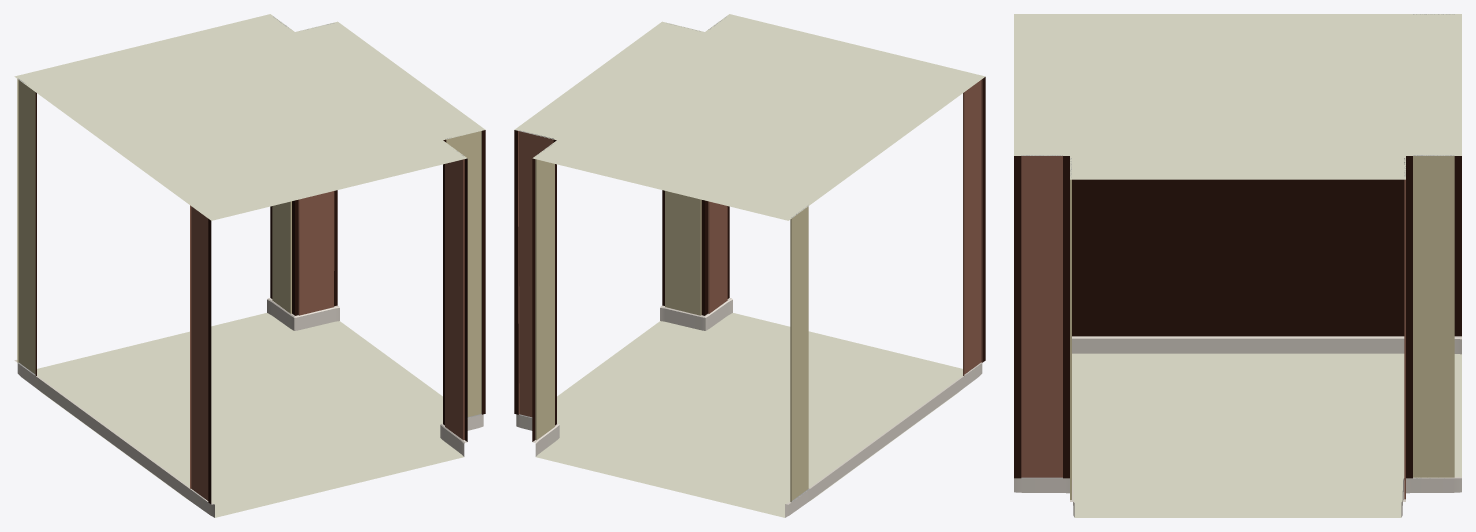
File: DoorwaysEnd (Untextured).fbx
3 renders of one model, left to right at view 1: azimuth 30°, elevation 25°; view 2: azimuth 150°, elevation 25°; view 3: azimuth 270°, elevation 25°, orthographic. The views are drawn at different scales.
Parts seen in each view (by area): view 1: corridorCorner6; view 2: corridorCorner6; view 3: corridorCorner6.
Boxes of the visible parts, x1,y1,x2,y2 form: corridorCorner6: [14, 14, 485, 517]; corridorCorner6: [514, 14, 985, 517]; corridorCorner6: [1014, 14, 1461, 517].
Bounding box in the file's own units: 394 × 375 × 450.
